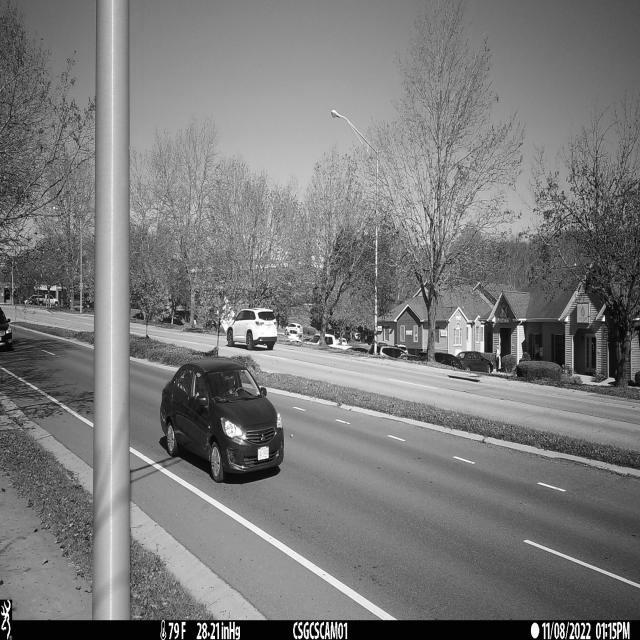Sedan: (160, 350, 284, 482)
